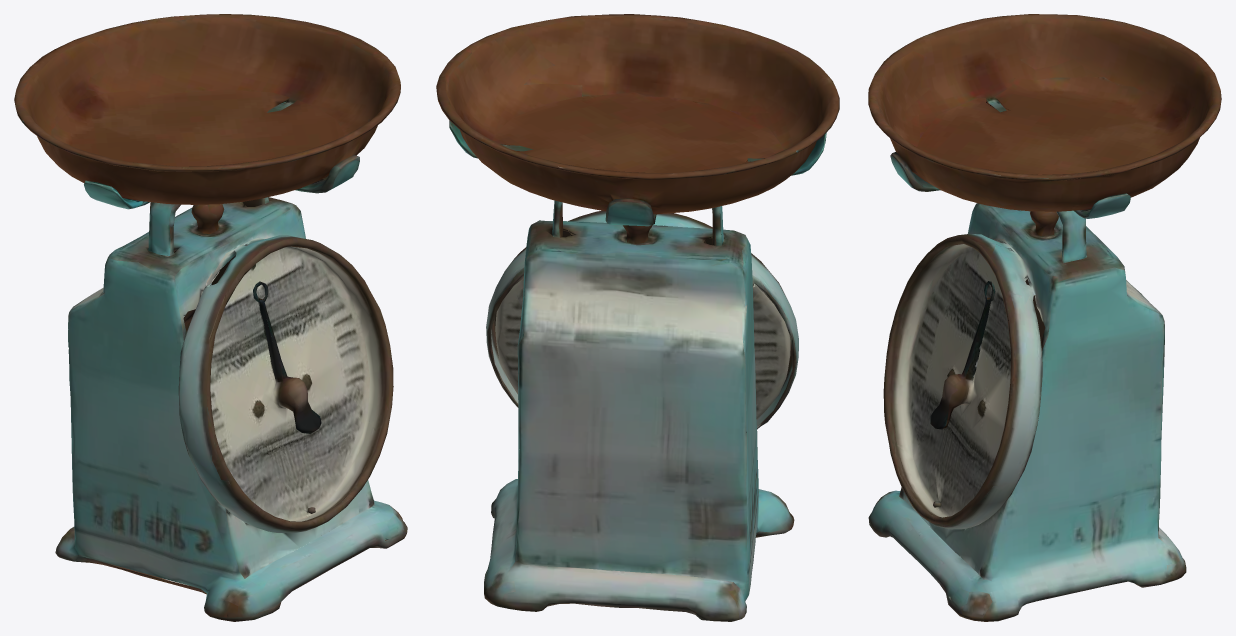
Rendered from balanza.glb.
The picture shows the model from 3 angles, left to right: view 1: azimuth 30°, elevation 25°; view 2: azimuth 150°, elevation 25°; view 3: azimuth 270°, elevation 25°; orthographic projection. The views are drawn at different scales.
Parts seen in each view (by area): view 1: geometry_0; view 2: geometry_0; view 3: geometry_0.
Boxes of the visible parts, left/top/right/bottom form: geometry_0: left=14, top=14, right=407, bottom=621; geometry_0: left=436, top=14, right=839, bottom=621; geometry_0: left=868, top=14, right=1221, bottom=621.
Size of the model in its own units: 0.22 by 0.28 by 0.2.
1 material, 1 textured.
